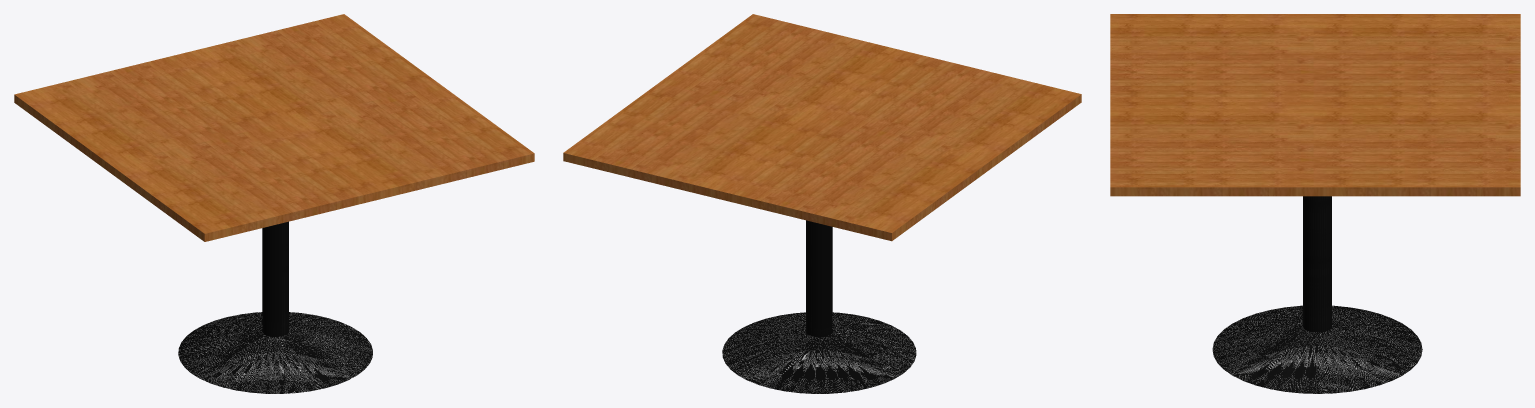
The model's file is square_table.dae.
3 views of the same model, side by side, from view 1: azimuth 30°, elevation 25°; view 2: azimuth 150°, elevation 25°; view 3: azimuth 270°, elevation 25° (orthographic). The views are drawn at different scales.
Parts seen in each view (by area): view 1: group_1, Agrupar_9, Agrupar_8; view 2: group_1, Agrupar_9, Agrupar_8; view 3: group_1, Agrupar_9, Agrupar_8.
Part boxes in pixels (x1,y1,x2,y2): group_1: (14,14,534,241); Agrupar_9: (178,312,372,393); Agrupar_8: (262,221,288,336); group_1: (563,14,1081,241); Agrupar_9: (722,312,916,393); Agrupar_8: (806,220,832,337); group_1: (1110,14,1520,196); Agrupar_9: (1212,305,1422,393); Agrupar_8: (1303,196,1331,332).
Bounding box in the file's own units: 43.05 × 43.05 × 28.68.
4 materials, 3 textured.
